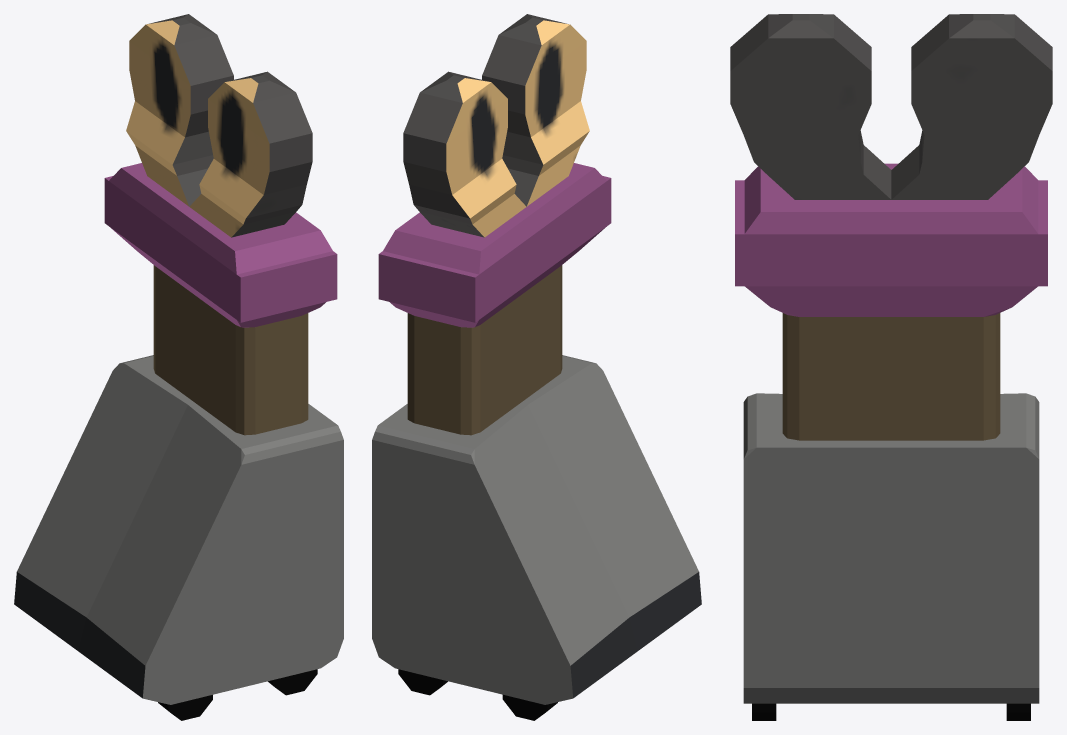
File: robot.glb
3 renders of one model, left to right at view 1: azimuth 30°, elevation 25°; view 2: azimuth 150°, elevation 25°; view 3: azimuth 270°, elevation 25°, orthographic. The views are drawn at different scales.
Visible parts, largest first — view 1: SM_Prop_Janitor_Cart_01; view 2: SM_Prop_Janitor_Cart_01; view 3: SM_Prop_Janitor_Cart_01.
Part boxes in pixels (box(x1,y1,x2,y2)): SM_Prop_Janitor_Cart_01: box(14, 14, 343, 720); SM_Prop_Janitor_Cart_01: box(372, 14, 701, 720); SM_Prop_Janitor_Cart_01: box(730, 14, 1052, 720).
Size of the model in its own units: 0.4793 by 1.37 by 0.5787.
Materials: 1 (1 with a texture image).
